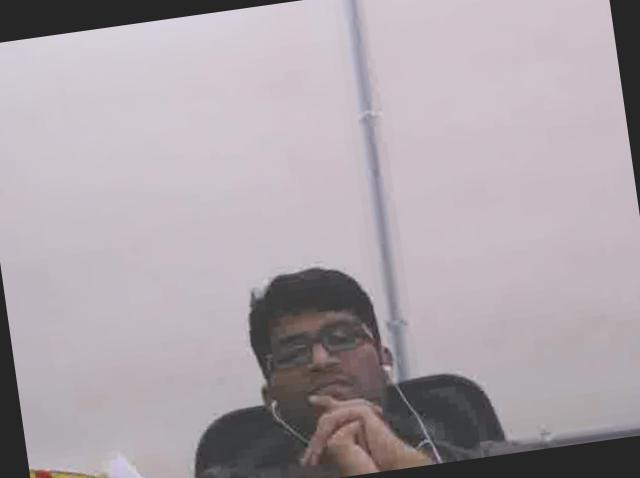bosan: (255, 287, 382, 433)
